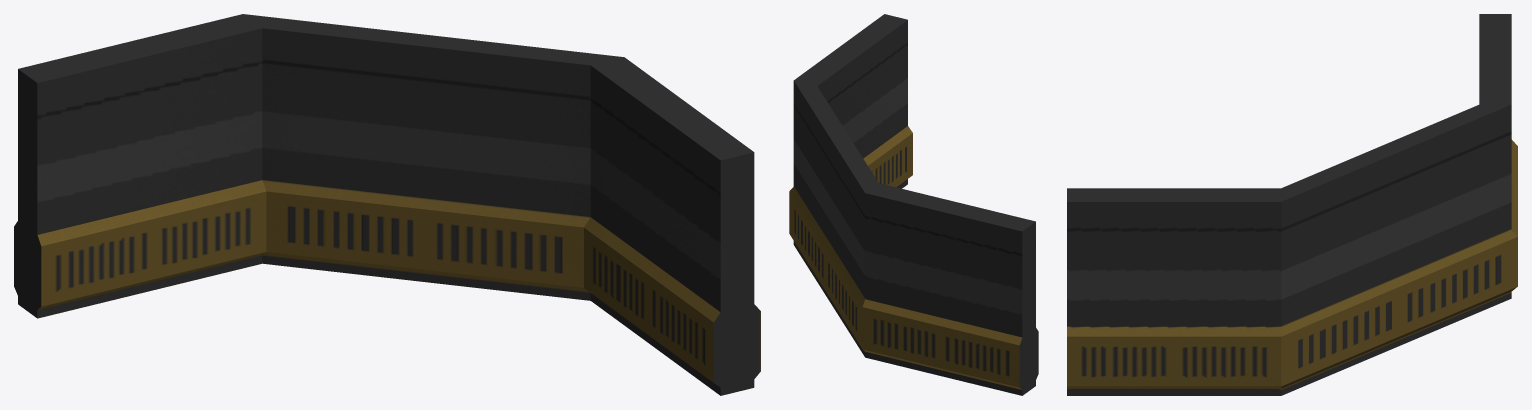
The model's file is Corner_02.fbx.
3 views of the same model, side by side, from view 1: azimuth 30°, elevation 25°; view 2: azimuth 150°, elevation 25°; view 3: azimuth 270°, elevation 25° (orthographic). The views are drawn at different scales.
Parts seen in each view (by area): view 1: Corner_02 Low Poly; view 2: Corner_02 Low Poly; view 3: Corner_02 Low Poly.
Part boxes in pixels (x1=…): Corner_02 Low Poly: x1=14, y1=14, x2=760, y2=395; Corner_02 Low Poly: x1=789, y1=14, x2=1038, y2=395; Corner_02 Low Poly: x1=1067, y1=14, x2=1517, y2=395.
Size of the model in its own units: 421 by 200 by 421.
Materials: 1 (1 with a texture image).
